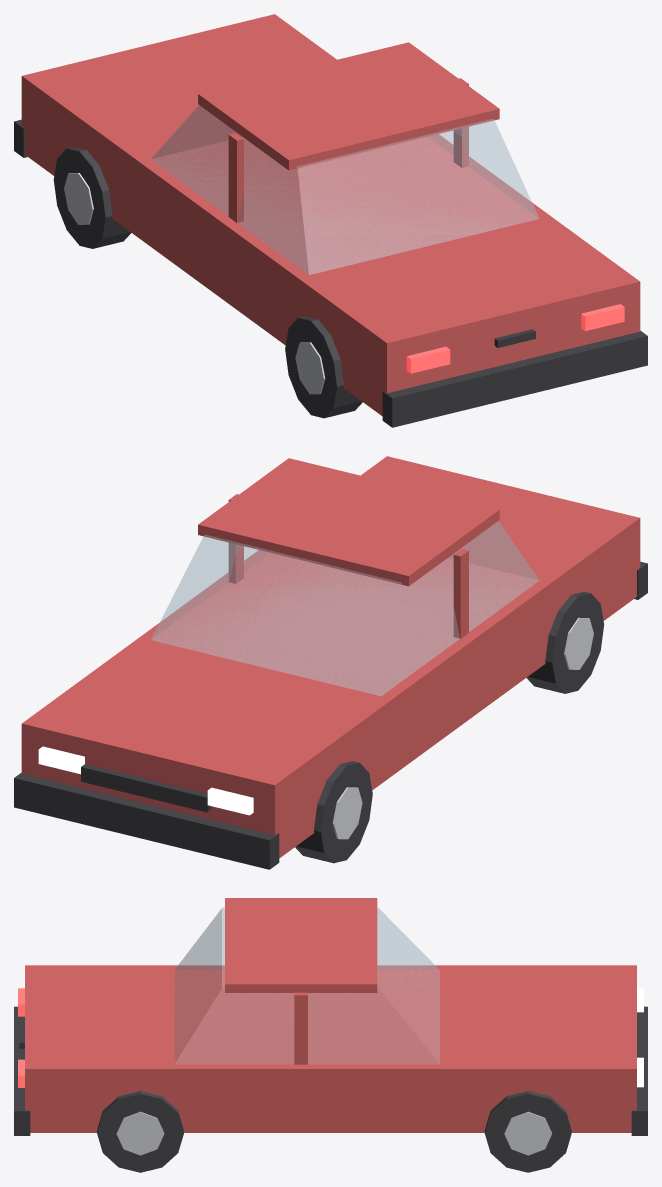
File: car_sedan_red.glb
3 renders of one model, top to bottom at view 1: azimuth 30°, elevation 25°; view 2: azimuth 150°, elevation 25°; view 3: azimuth 270°, elevation 25°, orthographic. The views are drawn at different scales.
Parts seen in each view (by area): view 1: body, wheel_fl, wheel_rl; view 2: body, wheel_rl, wheel_fl; view 3: body, wheel_fr, wheel_rr.
Boxes of the visible parts, box(x1,y1,x2,y2) form: body: box(14, 14, 647, 427); wheel_fl: box(53, 146, 131, 248); wheel_rl: box(285, 316, 362, 418); body: box(14, 456, 647, 869); wheel_rl: box(526, 591, 604, 693); wheel_fl: box(295, 761, 372, 863); body: box(14, 898, 647, 1135); wheel_fr: box(484, 1091, 571, 1172); wheel_rr: box(97, 1091, 183, 1172).
Size of the model in its own units: 1.92 by 1.43 by 4.66.
